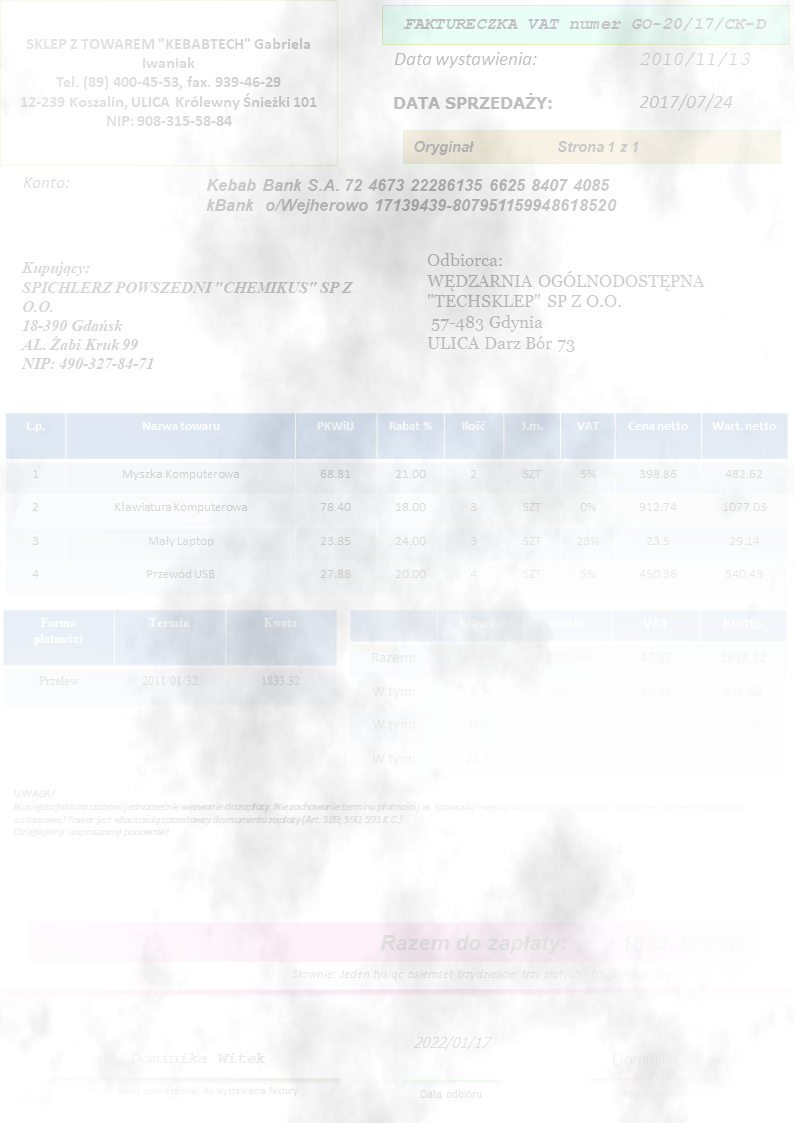Table: (2, 408, 790, 596), (347, 608, 788, 779), (2, 608, 336, 707)
TextBox: (9, 784, 746, 841), (19, 258, 357, 376), (424, 246, 709, 360), (18, 30, 322, 133), (202, 172, 620, 219), (375, 929, 750, 956), (289, 964, 751, 982), (399, 13, 774, 32), (409, 136, 642, 159), (390, 90, 555, 113), (392, 46, 538, 70), (83, 1083, 300, 1099), (125, 1049, 270, 1068), (609, 1047, 728, 1069), (639, 47, 752, 68), (636, 90, 733, 114), (412, 1029, 499, 1054), (621, 1085, 715, 1104), (18, 170, 75, 195), (414, 1086, 484, 1103)
